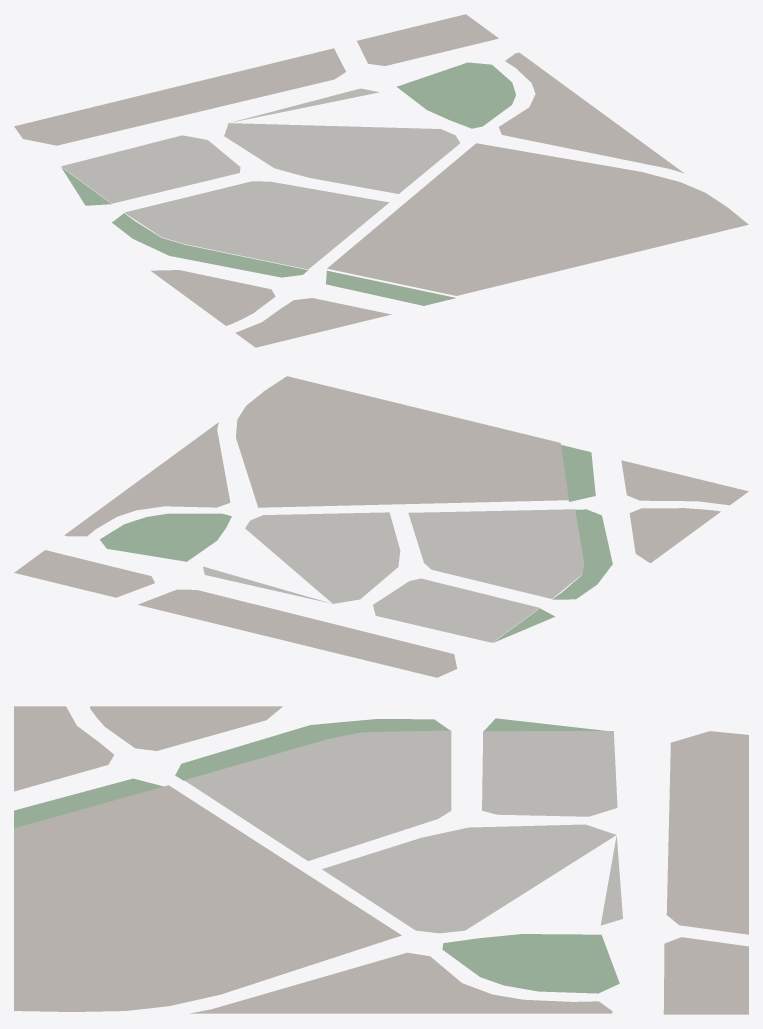
File: 127_70_mid.glb
The picture shows the model from 3 angles, top to bottom: view 1: azimuth 30°, elevation 25°; view 2: azimuth 150°, elevation 25°; view 3: azimuth 270°, elevation 25°; orthographic projection. The views are drawn at different scales.
Bounding box in the file's own units: 500 × 2.95 × 500.
